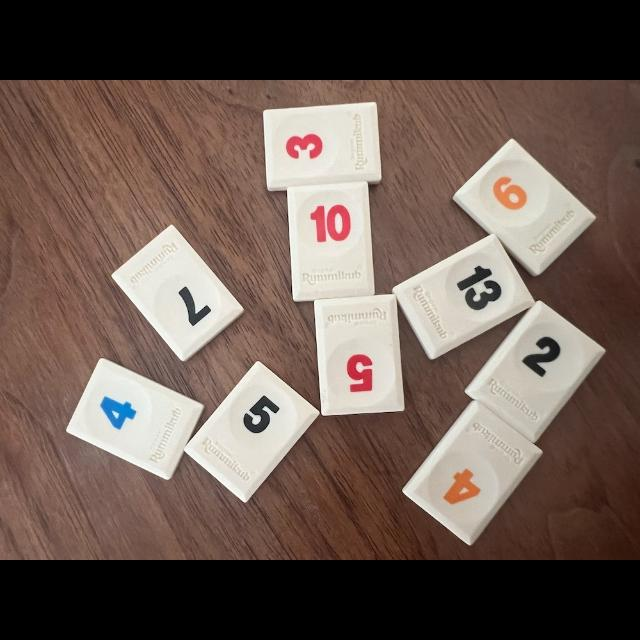black_13: (392, 235, 534, 359)
black_2: (465, 301, 605, 442)
black_5: (185, 361, 319, 502)
black_7: (111, 225, 244, 361)
blue_4: (68, 359, 204, 479)
orange_4: (402, 401, 542, 545)
orange_6: (454, 139, 595, 275)
red_10: (288, 181, 375, 301)
red_3: (264, 102, 381, 191)
red_5: (315, 295, 405, 416)
